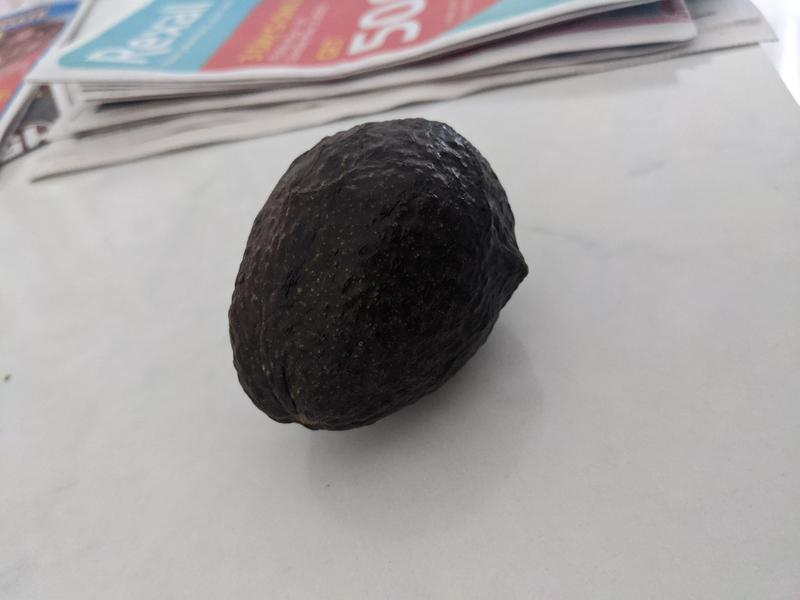avocado: (227, 118, 529, 431)
